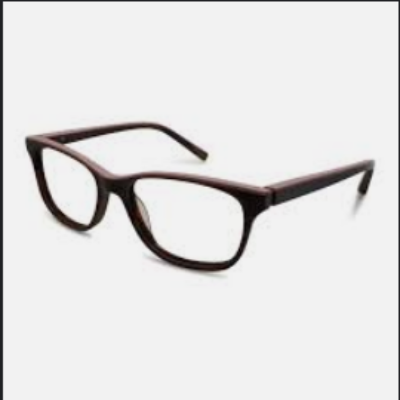glasses: (22, 119, 376, 274)
